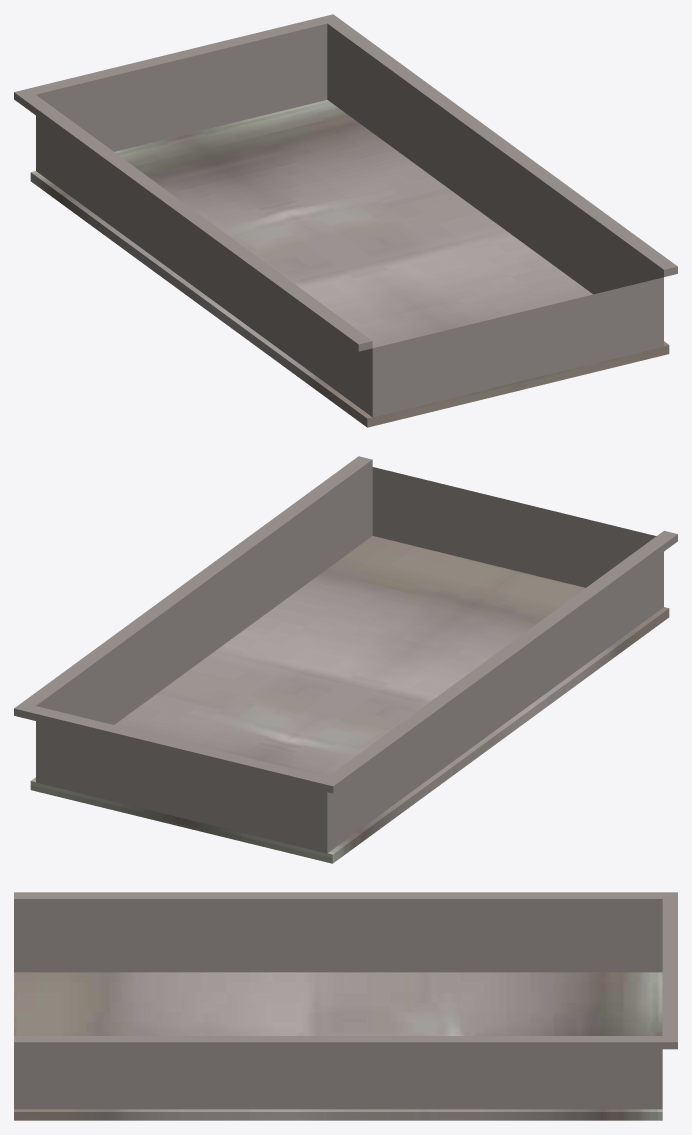
The model's file is elevator door.dae.
3 views of the same model, one above another, from view 1: azimuth 30°, elevation 25°; view 2: azimuth 150°, elevation 25°; view 3: azimuth 270°, elevation 25° (orthographic). The views are drawn at different scales.
Parts seen in each view (by area): view 1: Component_18, Component_17 (×2); view 2: Component_18, Component_17 (×2); view 3: Component_18, Component_17 (×2).
Boxes of the visible parts, x1,y1,x2,y2 form: Component_18: [14, 14, 677, 417]; Component_17 (×2): [30, 100, 669, 427]; Component_18: [14, 456, 677, 853]; Component_17 (×2): [30, 536, 669, 863]; Component_18: [14, 892, 677, 1109]; Component_17 (×2): [14, 972, 662, 1120].
Size of the model in its own units: 46 by 86 by 11.75.
